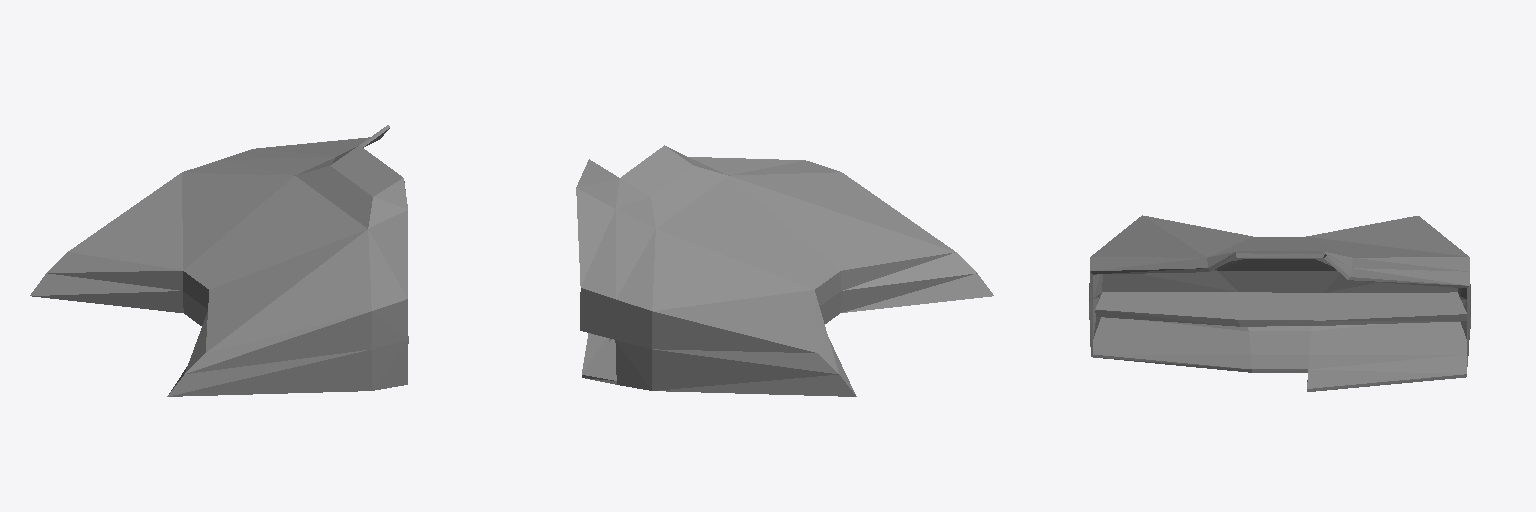
The model's file is ship-back01.obj.
3 views of the same model, side by side, from view 1: azimuth 30°, elevation 25°; view 2: azimuth 150°, elevation 25°; view 3: azimuth 270°, elevation 25° (orthographic).
Parts seen in each view (by area): view 1: ship_back; view 2: ship_back; view 3: ship_back.
Part boxes in pixels (left/top/right/bottom): ship_back: left=30, top=125, right=408, bottom=396; ship_back: left=576, top=145, right=993, bottom=396; ship_back: left=1089, top=215, right=1470, bottom=391.
Size of the model in its own units: 97.65 by 45.09 by 102.